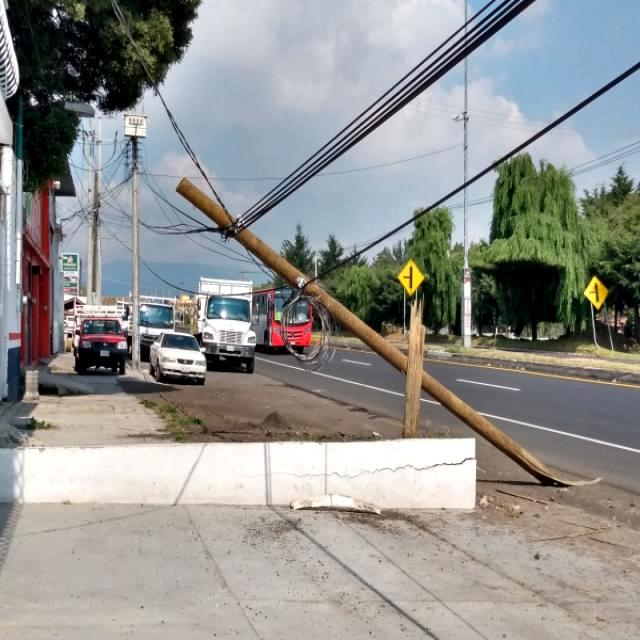Broken Pole: (168, 165, 572, 495)
